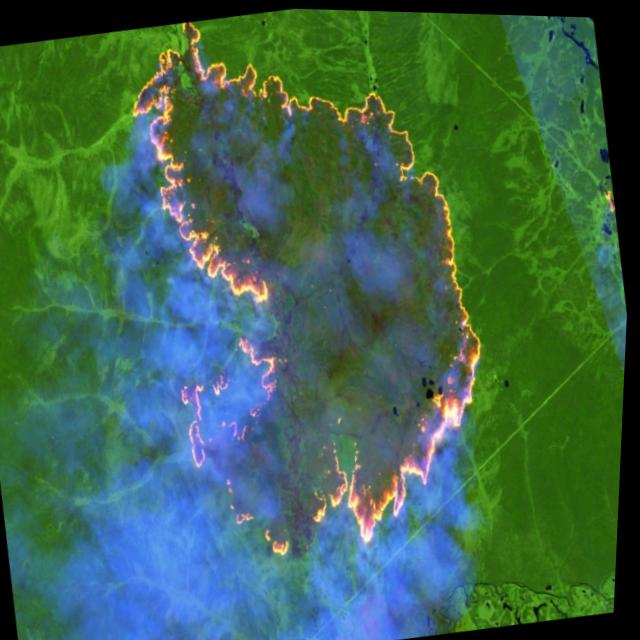fire: (99, 3, 527, 583)
